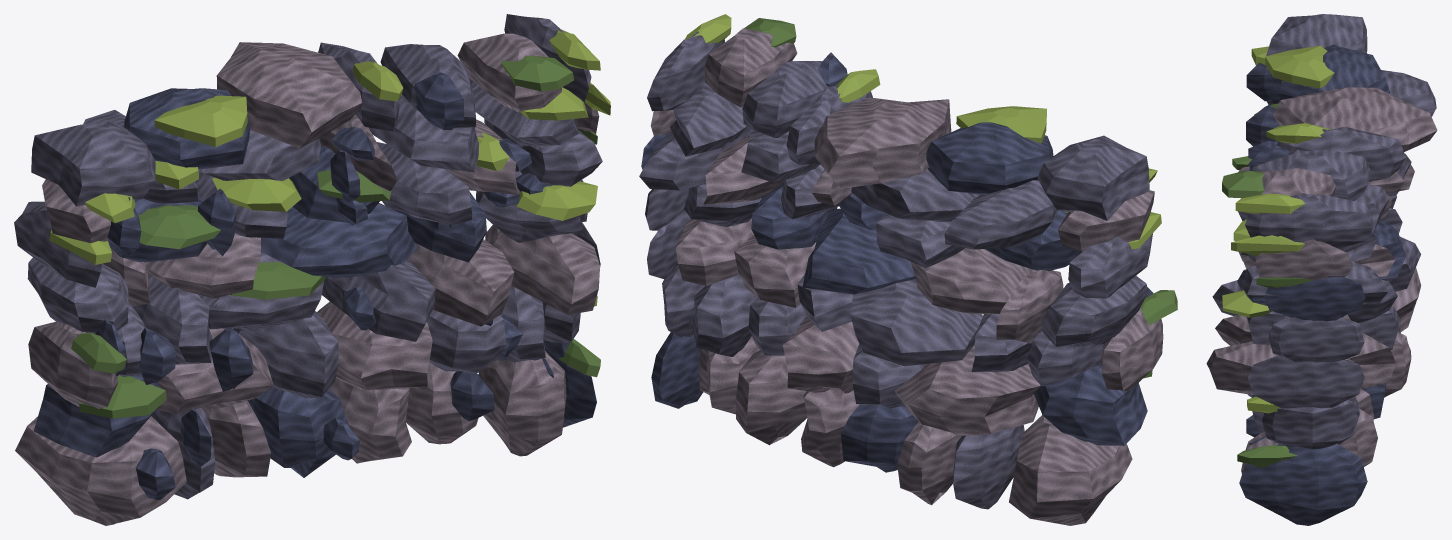
Rendered from slate-ledge-c.glb.
The picture shows the model from 3 angles, left to right: view 1: azimuth 30°, elevation 25°; view 2: azimuth 150°, elevation 25°; view 3: azimuth 270°, elevation 25°; orthographic projection. The views are drawn at different scales.
Parts seen in each view (by area): view 1: slate-ledge-c · Slate · sunlit, slate-ledge-c · Slate · lavender, slate-ledge-c · Slate · shadow, slate-ledge-c · Moss · gold green, slate-ledge-c · Moss · jade; view 2: slate-ledge-c · Slate · lavender, slate-ledge-c · Slate · sunlit, slate-ledge-c · Slate · shadow, slate-ledge-c · Moss · gold green, slate-ledge-c · Moss · jade; view 3: slate-ledge-c · Slate · lavender, slate-ledge-c · Slate · sunlit, slate-ledge-c · Slate · shadow, slate-ledge-c · Moss · gold green, slate-ledge-c · Moss · jade.
Boxes of the visible parts, <box> form: slate-ledge-c · Slate · sunlit: <box>15,33,599,525</box>; slate-ledge-c · Slate · lavender: <box>14,14,602,499</box>; slate-ledge-c · Slate · shadow: <box>33,72,597,499</box>; slate-ledge-c · Moss · gold green: <box>49,29,610,306</box>; slate-ledge-c · Moss · jade: <box>71,55,600,418</box>; slate-ledge-c · Slate · lavender: <box>639,31,1152,509</box>; slate-ledge-c · Slate · sunlit: <box>650,28,1163,525</box>; slate-ledge-c · Slate · shadow: <box>641,52,1153,472</box>; slate-ledge-c · Moss · gold green: <box>685,14,1161,249</box>; slate-ledge-c · Moss · jade: <box>744,18,1177,378</box>; slate-ledge-c · Slate · lavender: <box>1212,14,1436,449</box>; slate-ledge-c · Slate · sunlit: <box>1206,87,1437,473</box>; slate-ledge-c · Slate · shadow: <box>1237,45,1405,525</box>; slate-ledge-c · Moss · gold green: <box>1222,45,1334,413</box>; slate-ledge-c · Moss · jade: <box>1222,103,1311,467</box>.
Bounding box in the file's own units: 10.87 × 8.29 × 5.1.
5 materials, 3 textured.
